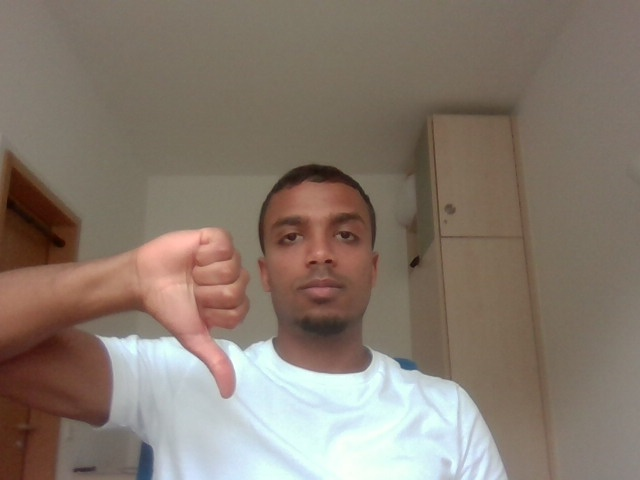no: (132, 204, 252, 424)
